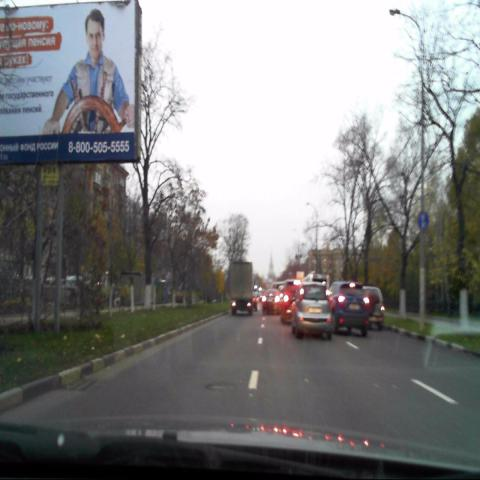3_29: (416, 211, 429, 230)
